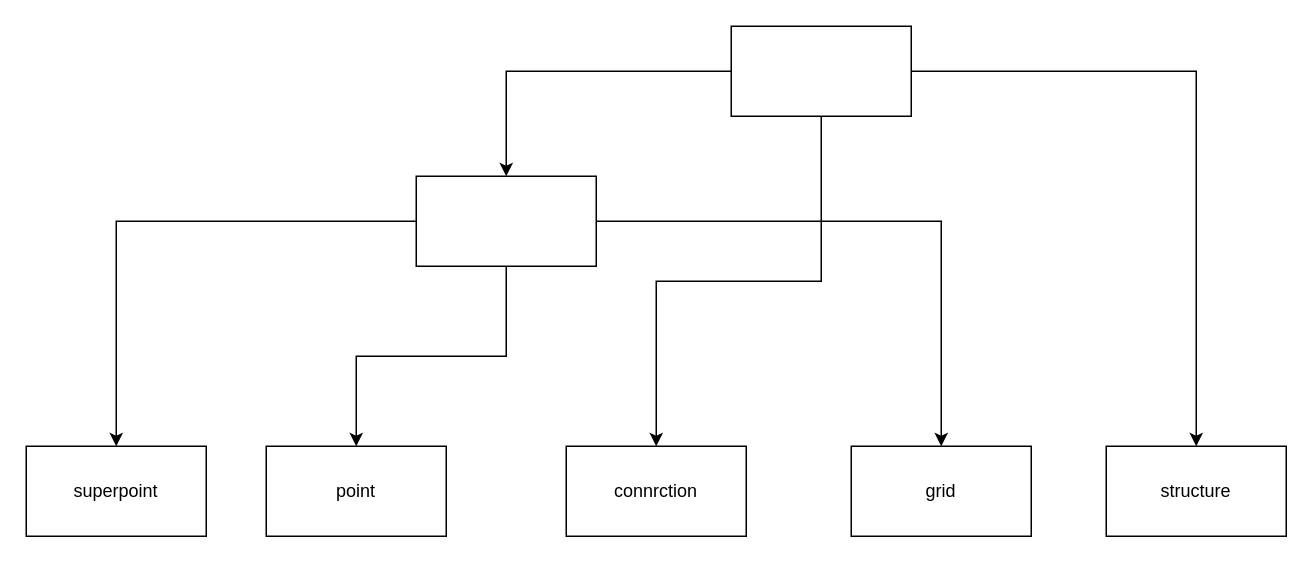
The diagram is 1313 pixels wide and 563 high, and some of its shapes have lost their labels. The shapes that lost their labels are listed below. From the top down, each one's centre as x and y in pixels, then its label:
the point at 820,70: physics object
the point at 505,220: world object
